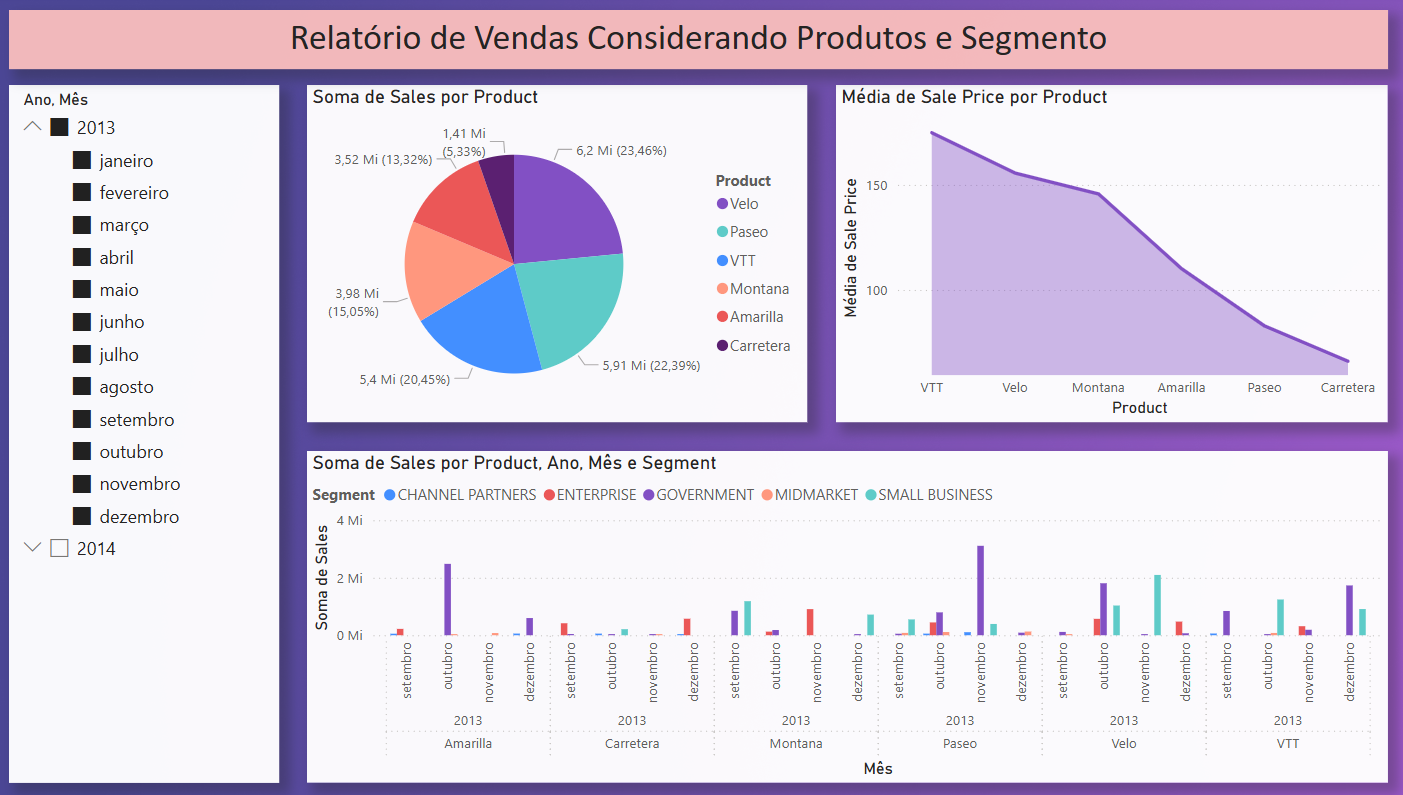

What the dashboard file says about the page in this screenshot:
{"tool":"powerbi","page":{"name":"Página 1","canvas":[1280,720],"ordinal":0},"visuals":[{"type":"pieChart","fields":{"Category":["financials.Product"],"Y":["Sum(financials. Sales)"]},"box":[287.5,79.7,447.8,301.8],"z":0},{"type":"areaChart","fields":{"Category":["financials.Product"],"Y":["Avg(financials.Sale Price)"]},"box":[761.2,79.7,494.3,301.8],"z":1000},{"type":"clusteredColumnChart","fields":{"Y":["Sum(financials. Sales)"],"Category":["financials.Product","financials.Date.Variation.Hierarquia de datas.Ano","financials.Date.Variation.Hierarquia de datas.Mês"],"Series":["financials.Segment"]},"box":[287.5,407.5,968.1,297.3],"z":2000},{"type":"slicer","fields":{"Values":["financials.Date.Variation.Hierarquia de datas.Ano","financials.Date.Variation.Hierarquia de datas.Mês"]},"box":[20.6,79.7,241.8,625.1],"z":3000},{"type":"textbox","box":[20.6,12.5,1234.9,52.8],"z":4000}]}

Visuals, with their boxes in screenshot pixels (x1, y1, x2, y2), scaled from the page's 1280x720 canvas onto the 1403x795 screenshot:
pieChart - financials.Product x Sum(financials. Sales): (x1=315, y1=88, x2=806, y2=421)
areaChart - financials.Product x Avg(financials.Sale Price): (x1=834, y1=88, x2=1376, y2=421)
clusteredColumnChart - Sum(financials. Sales) x financials.Product: (x1=315, y1=450, x2=1376, y2=778)
slicer - financials.Date.Variation.Hierarquia de datas.Ano x financials.Date.Variation.Hierarquia de datas.Mês: (x1=23, y1=88, x2=288, y2=778)
textbox: (x1=23, y1=14, x2=1376, y2=72)
